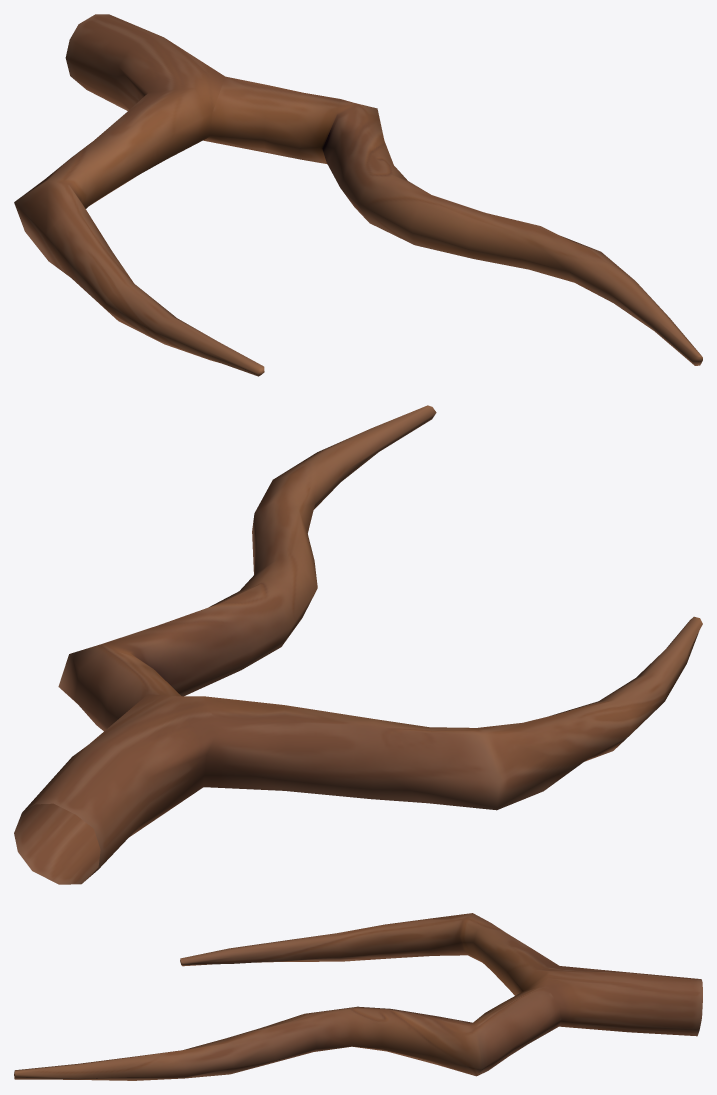
The model's file is Branch1.fbx.
The picture shows the model from 3 angles, top to bottom: view 1: azimuth 30°, elevation 25°; view 2: azimuth 150°, elevation 25°; view 3: azimuth 270°, elevation 25°; orthographic projection. The views are drawn at different scales.
Parts seen in each view (by area): view 1: Branch1_lp.002; view 2: Branch1_lp.002; view 3: Branch1_lp.002.
Boxes of the visible parts, x1=… form: Branch1_lp.002: x1=14, y1=14, x2=702, y2=376; Branch1_lp.002: x1=14, y1=405, x2=702, y2=884; Branch1_lp.002: x1=14, y1=913, x2=702, y2=1080.
Size of the model in its own units: 88.85 by 19.78 by 176.
